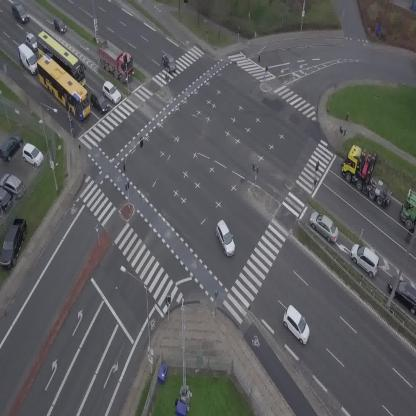bus: (29, 51, 100, 122), (27, 29, 95, 90)
car: (276, 304, 318, 346), (344, 240, 386, 279), (305, 208, 344, 245), (210, 219, 241, 258), (86, 88, 112, 116), (98, 79, 124, 105), (49, 15, 69, 36), (159, 52, 178, 73), (25, 32, 36, 51)
lorry: (333, 141, 409, 210), (88, 35, 142, 86), (12, 41, 43, 77), (401, 191, 416, 231)
